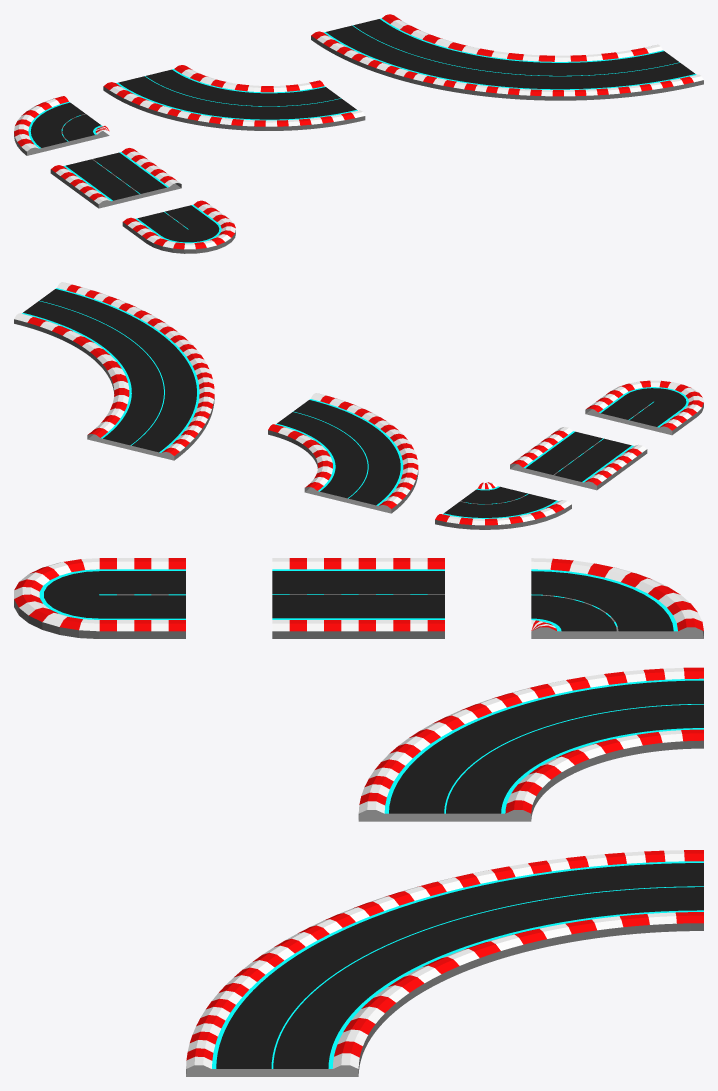
The model's file is Modular Tracks 1.0.fbx.
3 views of the same model, one above another, from view 1: azimuth 30°, elevation 25°; view 2: azimuth 150°, elevation 25°; view 3: azimuth 270°, elevation 25° (orthographic). The views are drawn at different scales.
Parts seen in each view (by area): view 1: Straight Ahead.020, Straight Ahead.019, Straight Ahead.016, Straight Ahead.017, Straight Ahead.018; view 2: Straight Ahead.020, Straight Ahead.019, Straight Ahead.016, Straight Ahead.017, Straight Ahead.018; view 3: Straight Ahead.020, Straight Ahead.019, Straight Ahead.016, Straight Ahead.017, Straight Ahead.018.
Boxes of the visible parts, <box> form: Straight Ahead.020: <box>311,14,703,100</box>; Straight Ahead.019: <box>103,65,365,130</box>; Straight Ahead.016: <box>50,148,181,208</box>; Straight Ahead.017: <box>122,200,235,253</box>; Straight Ahead.018: <box>14,96,109,155</box>; Straight Ahead.020: <box>14,282,214,460</box>; Straight Ahead.019: <box>268,393,418,513</box>; Straight Ahead.016: <box>510,426,647,490</box>; Straight Ahead.017: <box>585,380,703,435</box>; Straight Ahead.018: <box>435,482,571,529</box>; Straight Ahead.020: <box>186,850,703,1076</box>; Straight Ahead.019: <box>358,667,703,821</box>; Straight Ahead.016: <box>272,558,444,638</box>; Straight Ahead.017: <box>14,558,185,638</box>; Straight Ahead.018: <box>531,558,703,638</box>.
Bounding box in the file's own units: 140 × 1.51 × 79.93.
